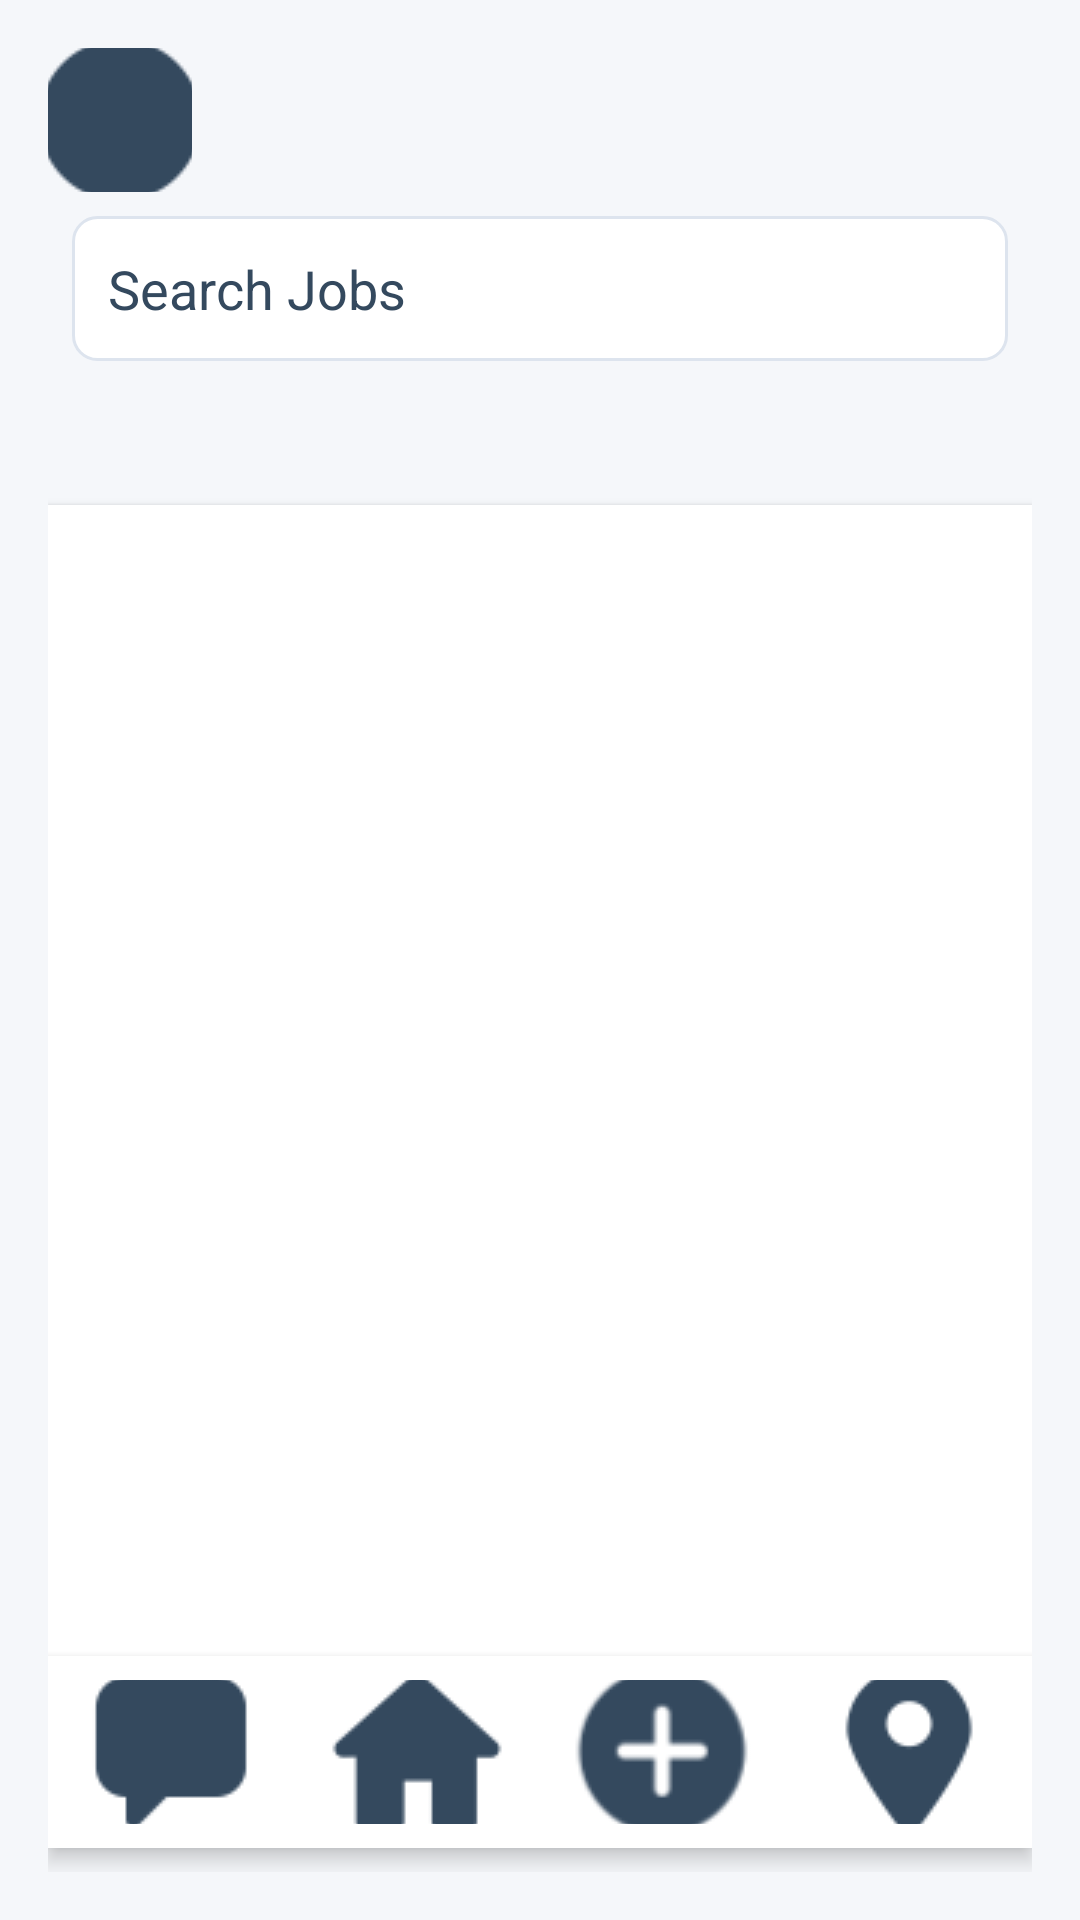

Named icons in this screenshot (1080 × 1920) and their bounding boxes, bbox=(x1, y1, x2, y2):
Chats: bbox=(95, 1680, 247, 1824)
Home: bbox=(332, 1680, 502, 1824)
Post a Job: bbox=(577, 1680, 747, 1824)
Show Map: bbox=(845, 1680, 973, 1824)
